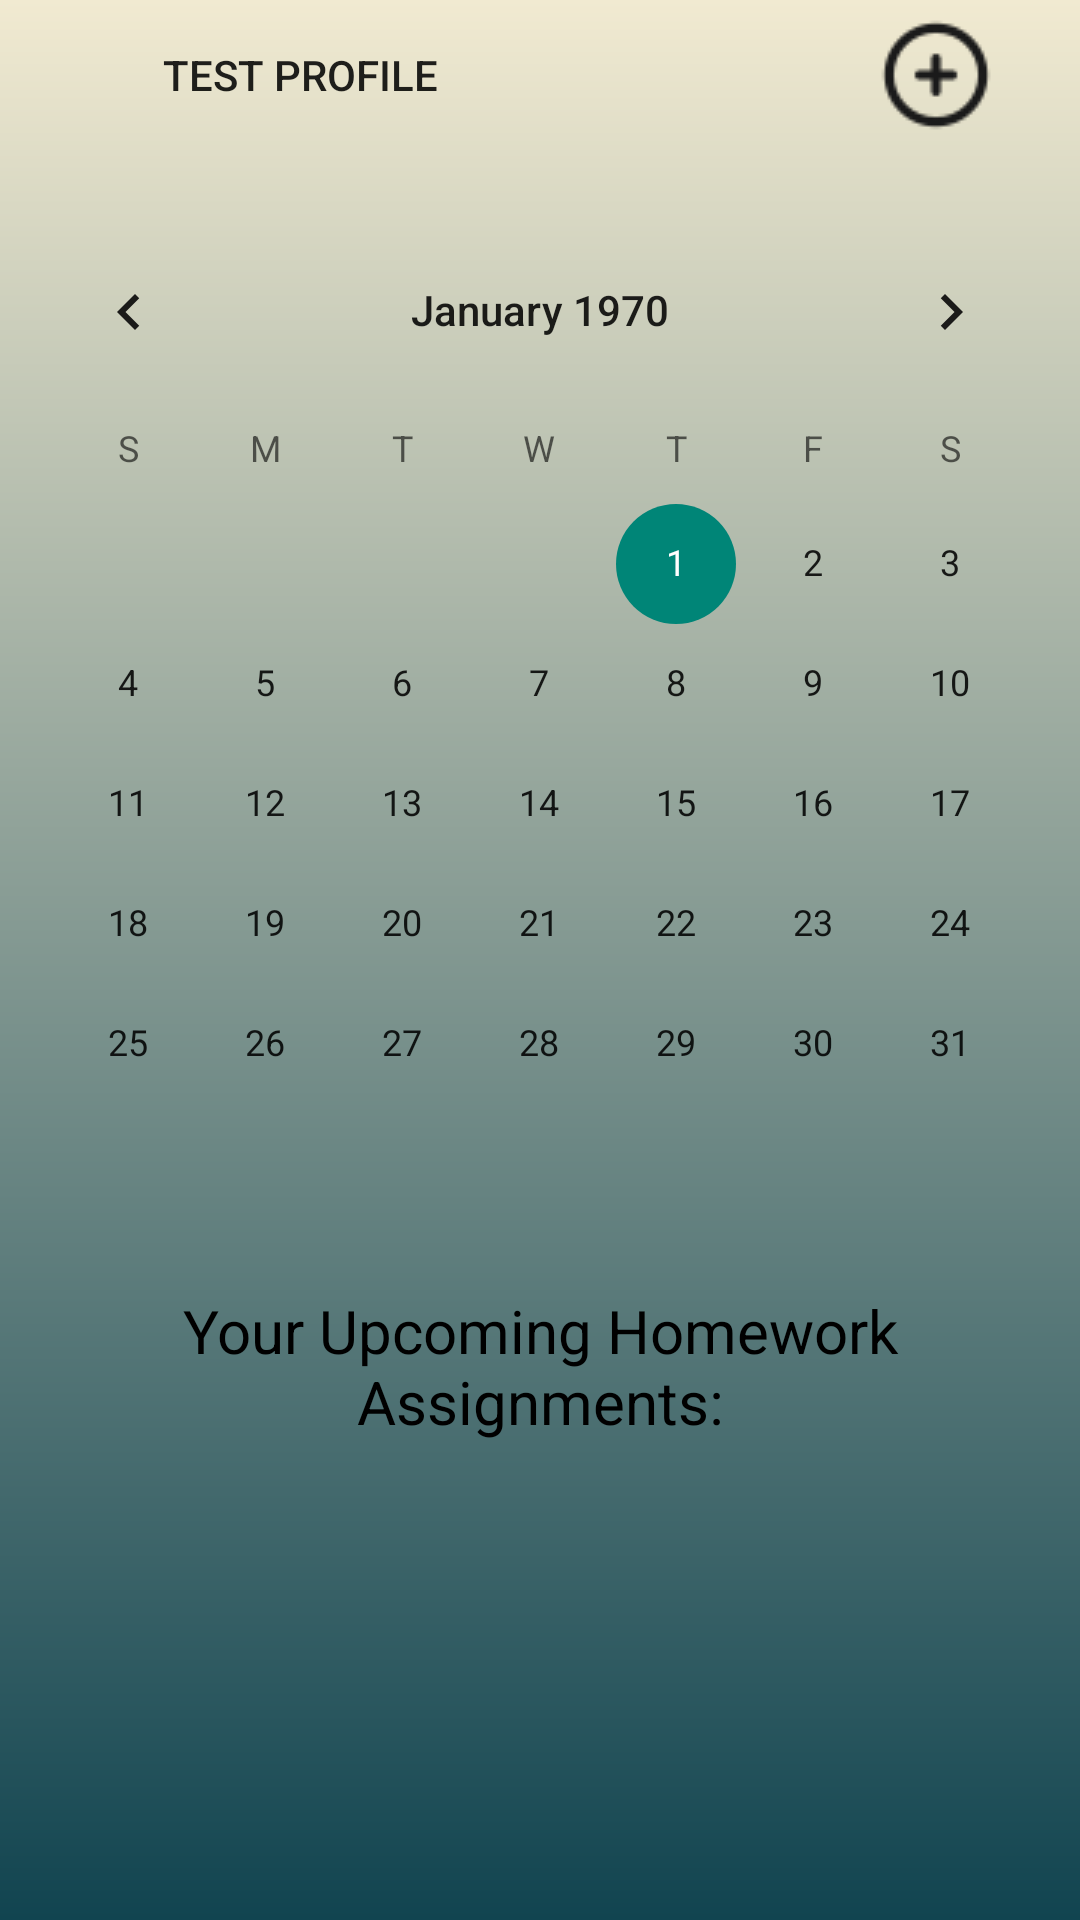

Locate icon controls on the screen. Image size 1080px x 1920px, boxes as [x1=x1, y1=y1, x2=x2, y2=y2].
this is how you can quick add a homework assignment: [x1=883, y1=23, x2=989, y2=128]
